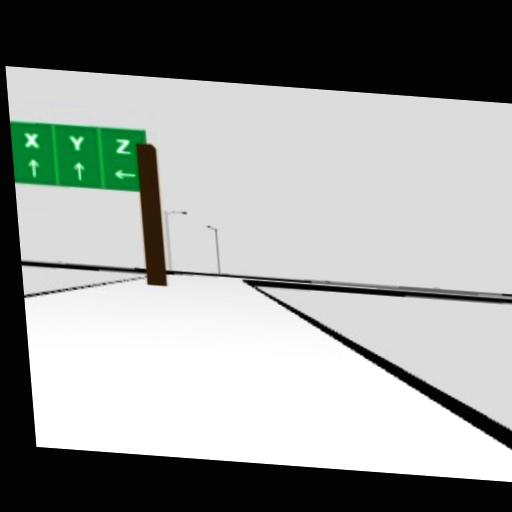Left: (113, 167, 136, 179)
Straight: (73, 159, 86, 181), (28, 157, 41, 178)
X: (23, 131, 40, 148)
Y: (67, 133, 83, 149)
Z: (114, 136, 130, 152)
